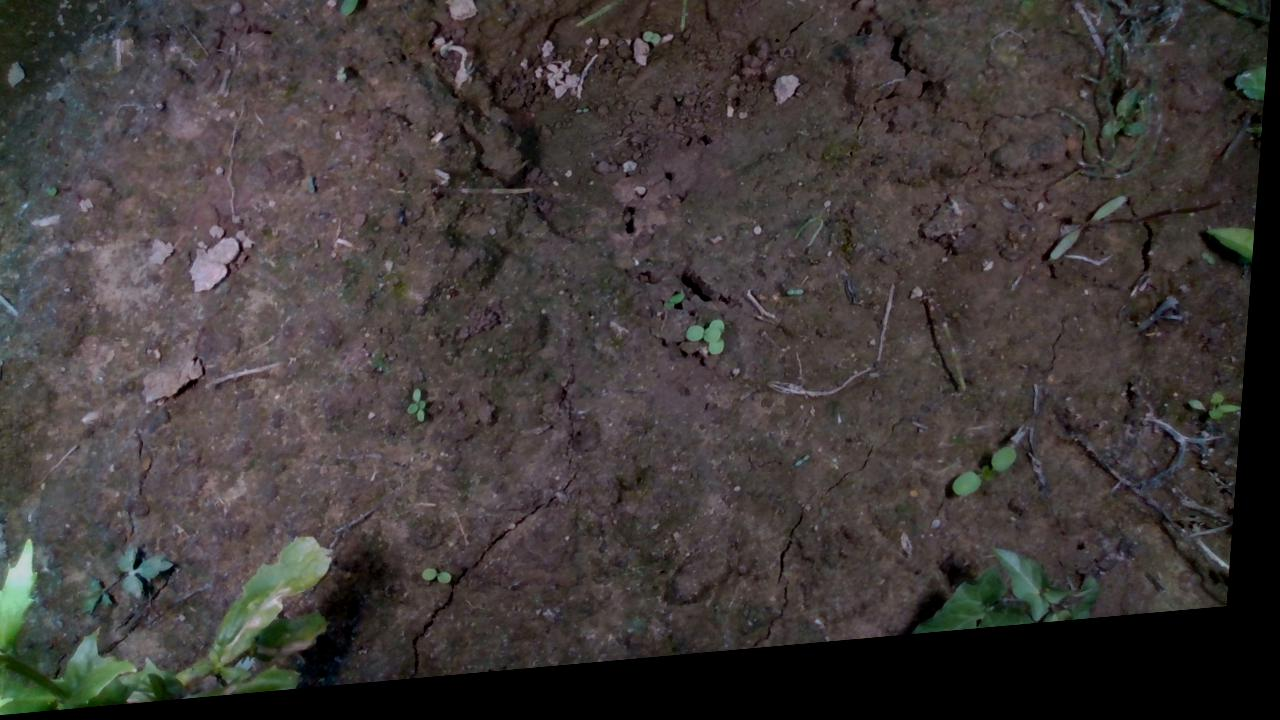weed: (955, 464, 1026, 517), (404, 390, 446, 443), (1191, 409, 1243, 451), (422, 570, 463, 597)
